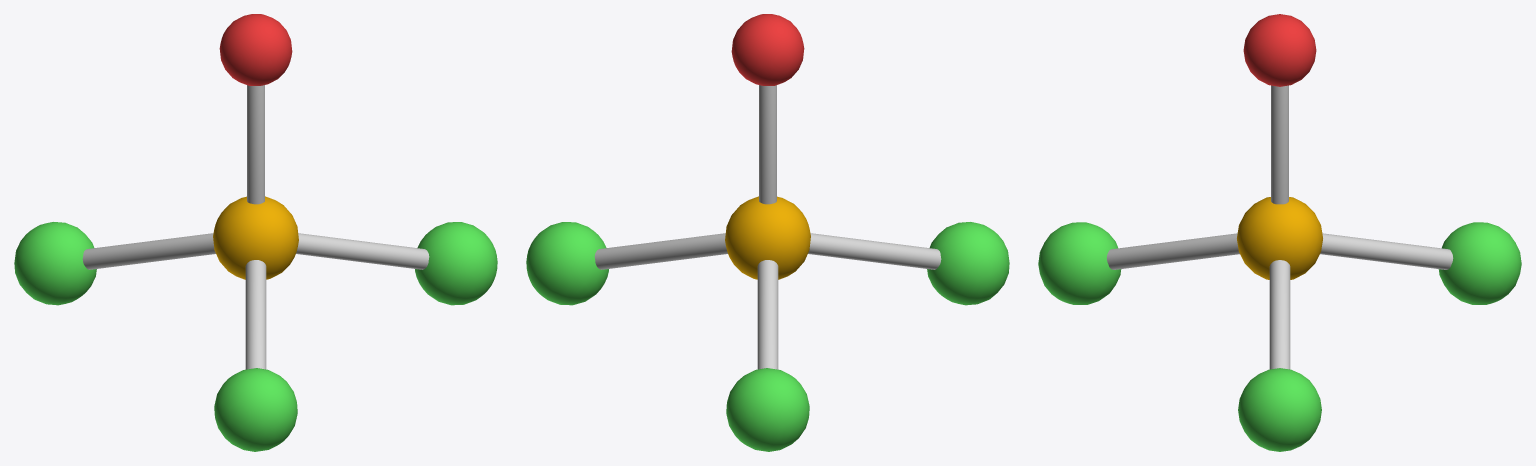
The model's file is POCL3.fbx.
3 renders of one model, left to right at view 1: azimuth 30°, elevation 25°; view 2: azimuth 150°, elevation 25°; view 3: azimuth 270°, elevation 25°, orthographic.
Parts seen in each view (by area): view 1: Atom_3_CL, Atom_0_P, Atom_4_CL, Atom_2_CL, Atom_1_O, Bond_003, Bond_001, Bond_002, Bond; view 2: Atom_4_CL, Atom_0_P, Atom_3_CL, Atom_2_CL, Atom_1_O, Bond_002, Bond_001, Bond_003, Bond; view 3: Atom_2_CL, Atom_0_P, Atom_4_CL, Atom_3_CL, Atom_1_O, Bond_003, Bond_002, Bond_001, Bond.
Boxes of the visible parts, bbox=[...] form: Atom_3_CL: bbox=[214, 368, 297, 451]; Atom_0_P: bbox=[213, 196, 298, 279]; Atom_4_CL: bbox=[14, 222, 96, 305]; Atom_2_CL: bbox=[415, 222, 497, 305]; Atom_1_O: bbox=[219, 14, 292, 85]; Bond_003: bbox=[82, 233, 215, 269]; Bond_001: bbox=[296, 233, 429, 269]; Bond_002: bbox=[245, 260, 266, 369]; Bond: bbox=[247, 85, 264, 204]; Atom_4_CL: bbox=[726, 368, 809, 451]; Atom_0_P: bbox=[725, 196, 810, 279]; Atom_3_CL: bbox=[927, 222, 1009, 305]; Atom_2_CL: bbox=[526, 222, 608, 305]; Atom_1_O: bbox=[731, 14, 804, 85]; Bond_002: bbox=[808, 233, 941, 269]; Bond_001: bbox=[594, 233, 727, 269]; Bond_003: bbox=[757, 260, 778, 369]; Bond: bbox=[759, 85, 776, 204]; Atom_2_CL: bbox=[1238, 368, 1321, 451]; Atom_0_P: bbox=[1237, 197, 1322, 279]; Atom_4_CL: bbox=[1438, 222, 1521, 304]; Atom_3_CL: bbox=[1038, 222, 1121, 304]; Atom_1_O: bbox=[1243, 14, 1316, 86]; Bond_003: bbox=[1320, 233, 1453, 269]; Bond_002: bbox=[1106, 233, 1239, 269]; Bond_001: bbox=[1269, 260, 1290, 369]; Bond: bbox=[1271, 85, 1288, 204].
Size of the model in its own units: 3.58 by 3.06 by 4.03.
